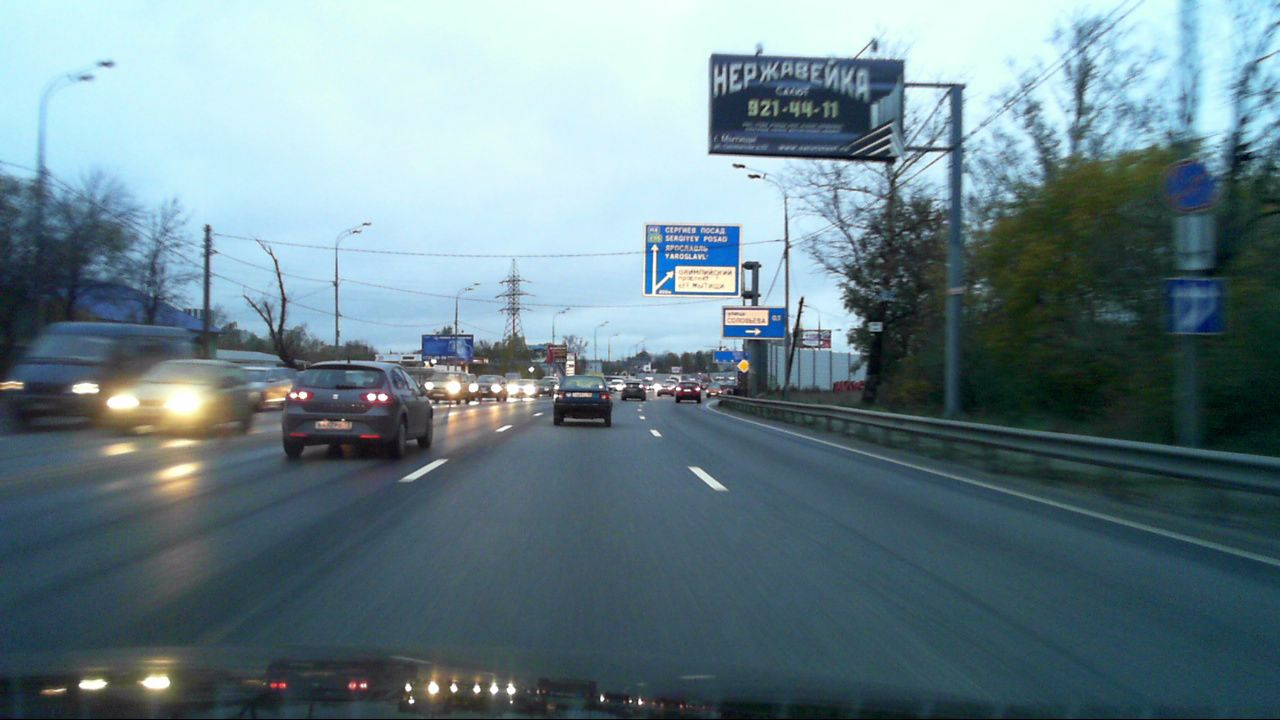No Parking: (1159, 159, 1215, 215)
